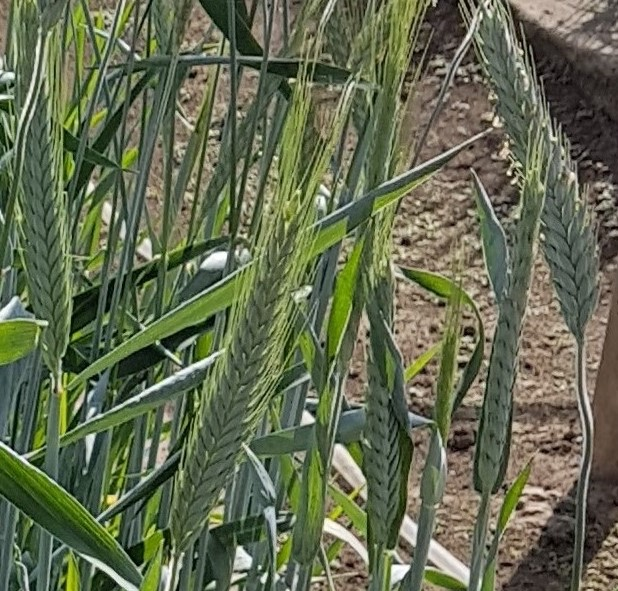Healthy Wheat: (175, 207, 314, 544), (478, 11, 614, 324), (10, 71, 83, 367)
